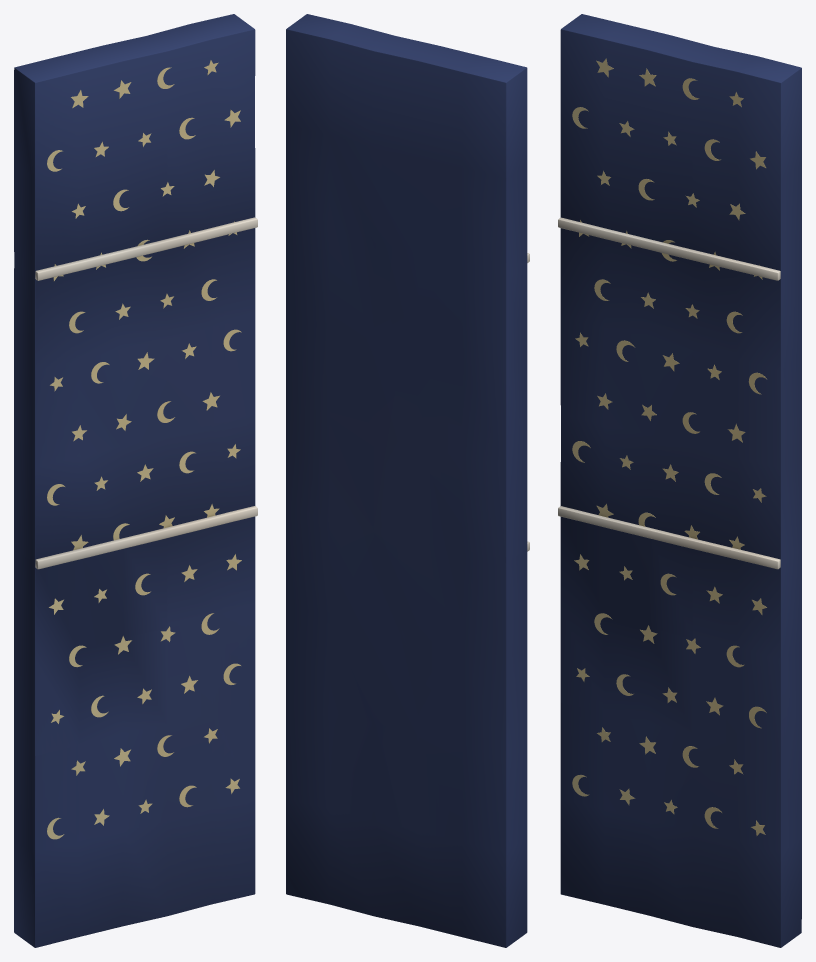
The model's file is den_wallpaper_wall.glb.
The picture shows the model from 3 angles, left to right: view 1: azimuth 30°, elevation 25°; view 2: azimuth 150°, elevation 25°; view 3: azimuth 330°, elevation 25°; orthographic projection.
Parts seen in each view (by area): view 1: den_wallpaper_wall; view 2: den_wallpaper_wall; view 3: den_wallpaper_wall.
Part boxes in pixels (box(x1,y1,x2,y2)): den_wallpaper_wall: box(14, 14, 257, 947); den_wallpaper_wall: box(286, 14, 529, 947); den_wallpaper_wall: box(558, 14, 801, 947).
Bounding box in the file's own units: 24.02 × 90.11 × 4.56.
